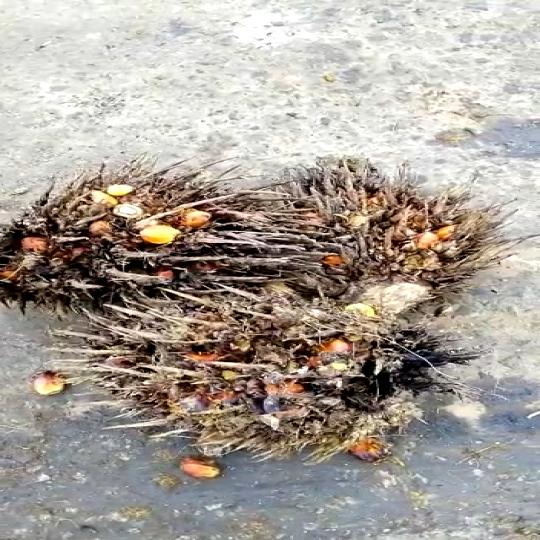terlalu masak: (25, 288, 496, 460), (215, 182, 498, 321), (0, 167, 247, 305)
